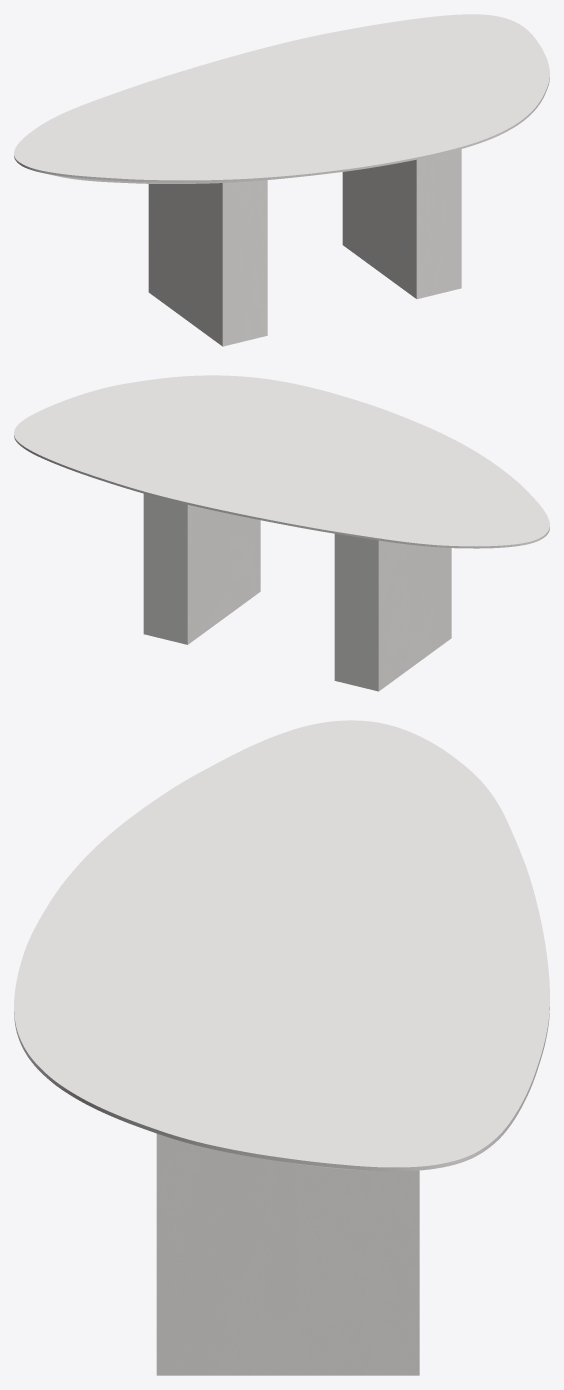
File: purewhite_pebbletop_facet_ridge.glb
3 views of the same model, one above another, from view 1: azimuth 30°, elevation 25°; view 2: azimuth 150°, elevation 25°; view 3: azimuth 270°, elevation 25° (orthographic). The views are drawn at different scales.
Visible parts, largest first — view 1: facet_pebbletop, ridge; view 2: facet_pebbletop, ridge; view 3: facet_pebbletop, ridge.
Part boxes in pixels (x1,y1,x2,y2): facet_pebbletop: (14, 14, 549, 183); ridge: (148, 149, 461, 346); facet_pebbletop: (14, 375, 549, 548); ridge: (143, 493, 451, 691); facet_pebbletop: (14, 720, 549, 1171); ridge: (156, 1133, 419, 1375).
Size of the model in its own units: 7.5 by 2.5 by 3.8.
Materials: 1 (1 with a texture image).
